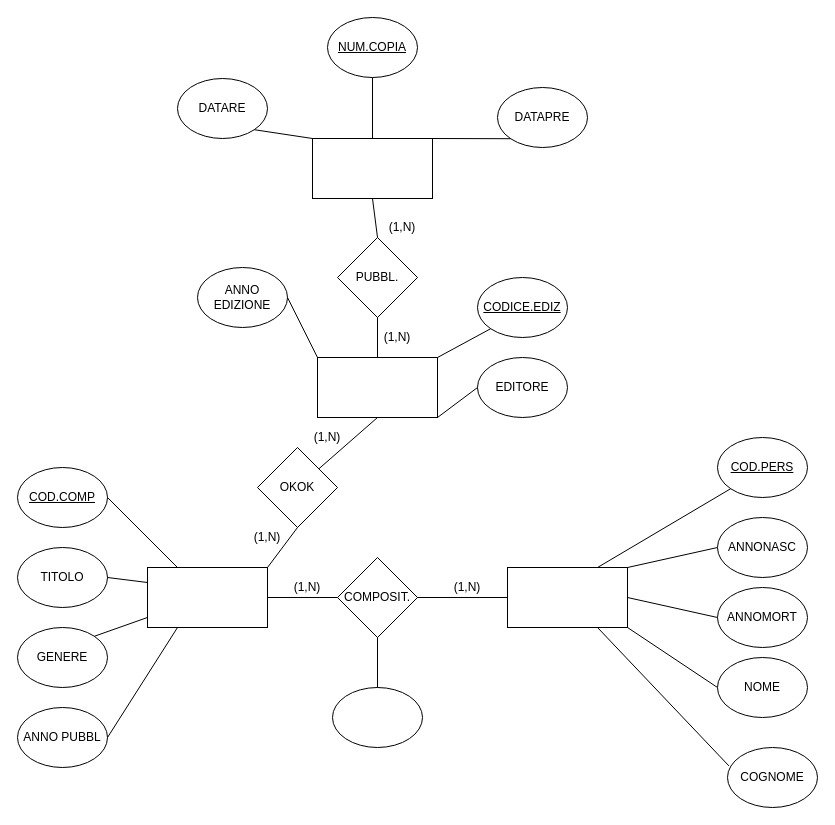
This 835x825 diagram has some shape labels left out. Here are the shapes that lost their labels. From the top down, the centre of each, then its label:
At point 372,168: "DISCO".
At point 377,387: "ED.MUSICALE".
At point 207,597: "COMPOSIZIONE".
At point 567,597: "PERSONA".
At point 377,717: "POS.LISTA.C".
